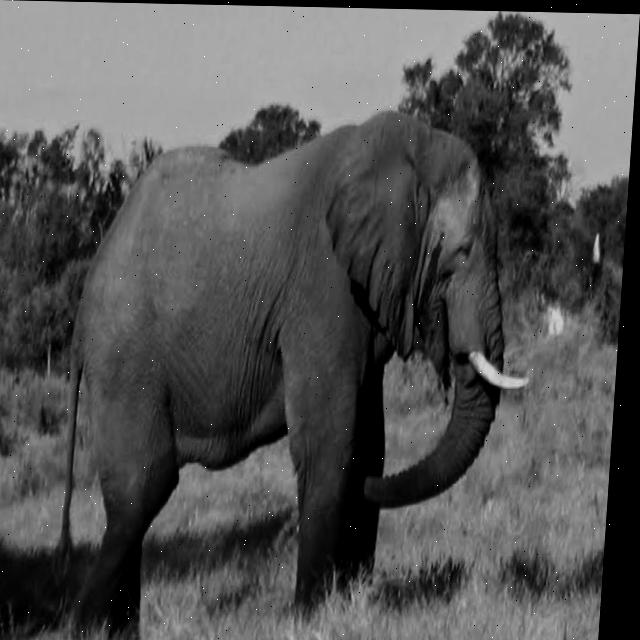Elephant: (44, 101, 546, 640)
